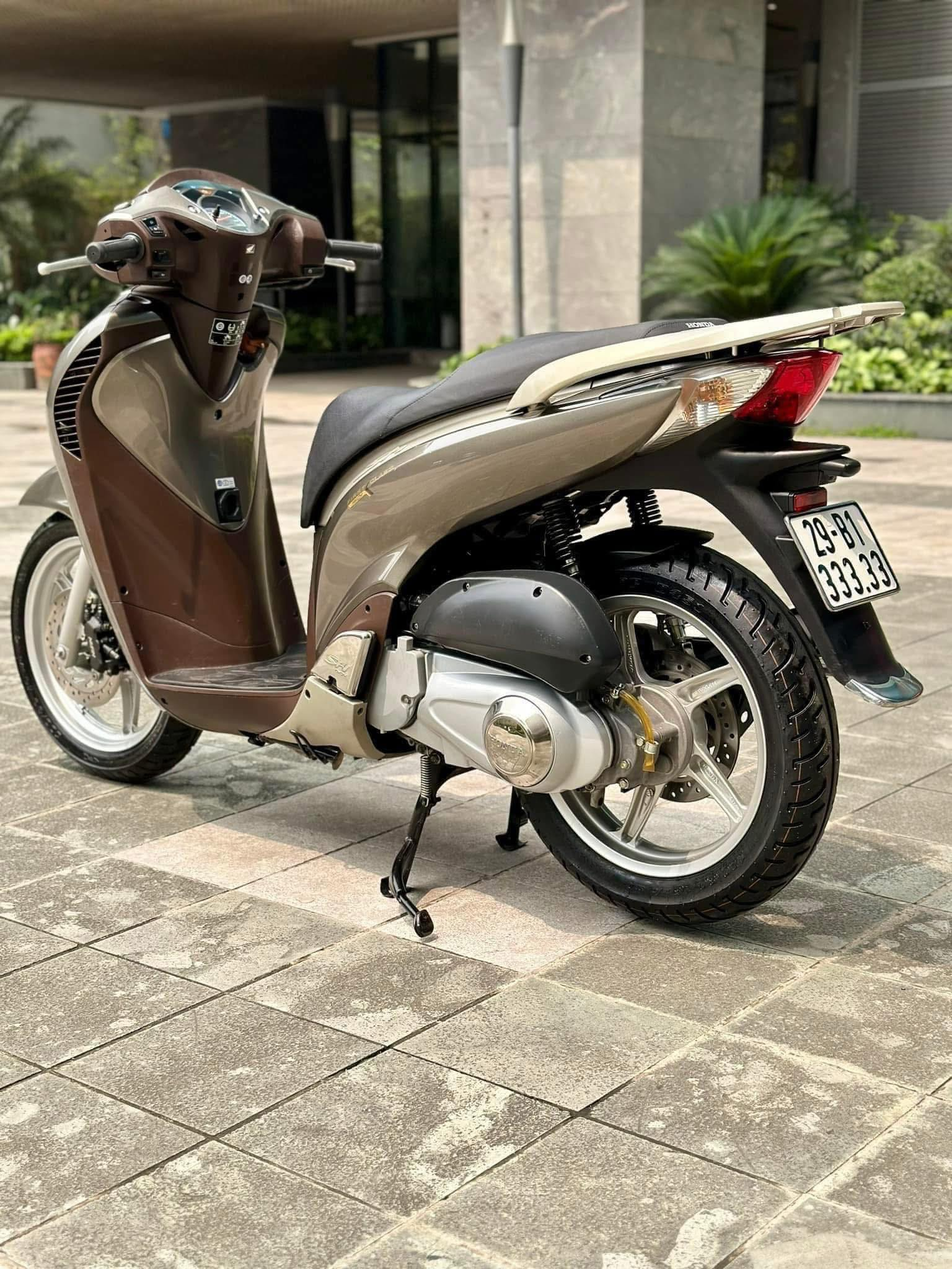bien_so: (771, 493, 910, 617)
